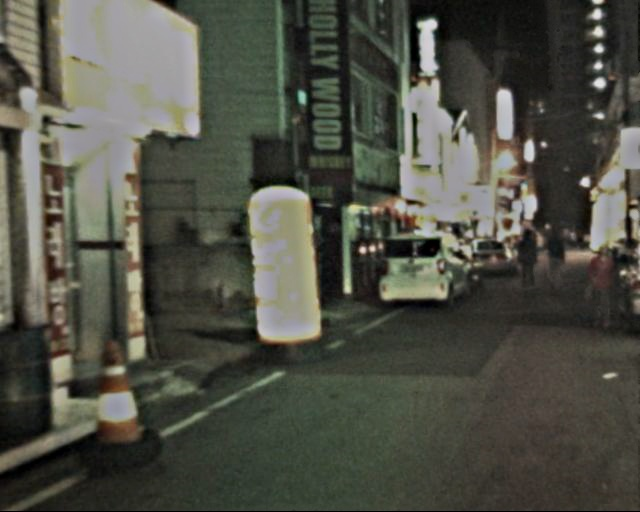person: (587, 245, 626, 333), (514, 227, 551, 300), (540, 227, 576, 298)
